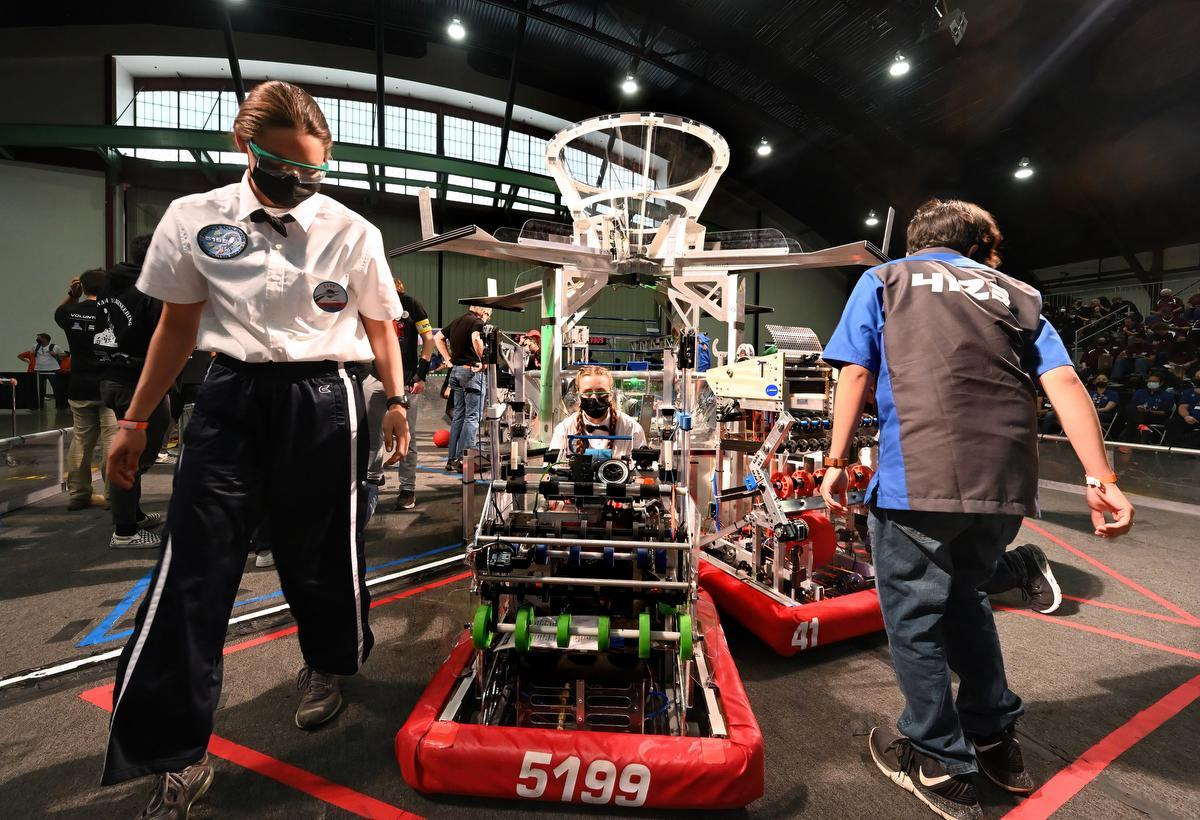robot: (386, 395, 774, 820), (684, 320, 983, 659)
